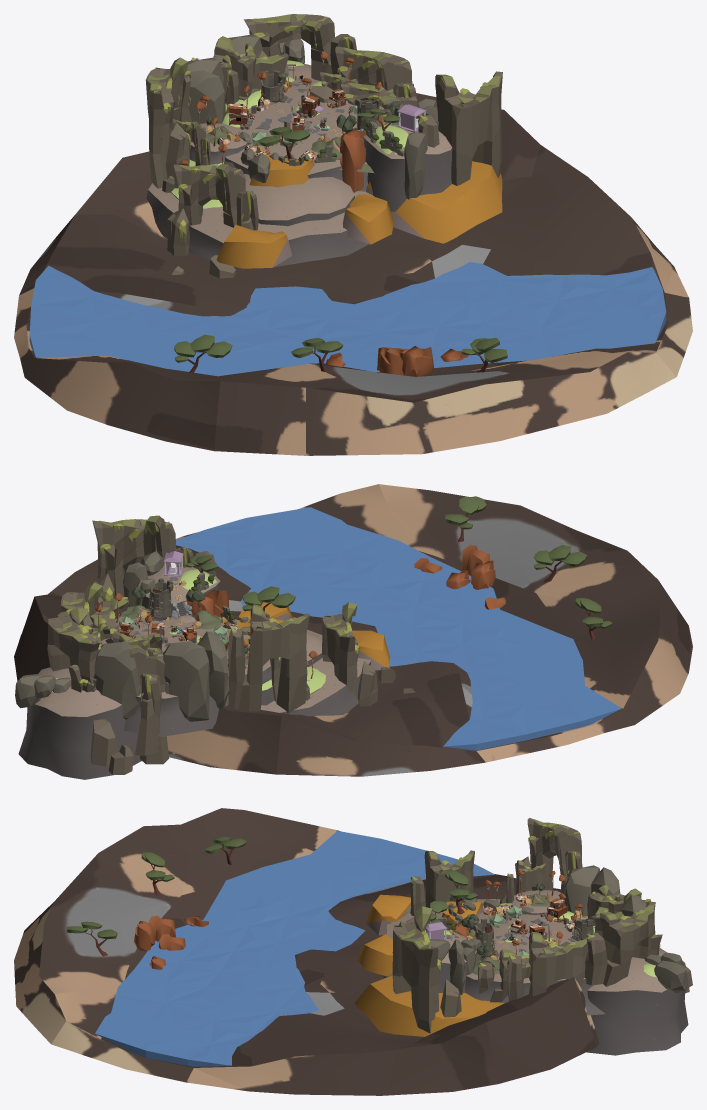
The model's file is Desert_ruins_MedievalRemixChallenge.glb.
The picture shows the model from 3 angles, top to bottom: view 1: azimuth 30°, elevation 25°; view 2: azimuth 150°, elevation 25°; view 3: azimuth 270°, elevation 25°; orthographic projection. The views are drawn at different scales.
Visible parts, largest first — view 1: ground_Icosphere_terrain_mat_0, water_Icosphere.010_water_mat_0, Rock.021_Cube.011_Objects_0, Rock.021_Cube.009_Objects_0, Slope.002_slope_mat_0, Rock.021_Cube.008_Objects_0, Rock.021_Cube.013_Objects_0, dirtcliff_Mesh1_Model.001_dirtroad_0, dirtcliff_Mesh1_Model.007_dirtroad_0, dirtcliff_Mesh1_Model.004_dirt_0, dirtcliff_Mesh1_Model.003_dirt_0, Rock.021_Cube.002_Objects_0 (+17 smaller); view 2: ground_Icosphere_terrain_mat_0, water_Icosphere.010_water_mat_0, Rock.021_Cube.008_Objects_0, dirtcliff_Mesh1_Model.002_dirt_0, Rock.021_Cube.011_Objects_0, Rock.021_Cube.010_Objects_0, Rock.021_Cube.009_Objects_0, mff_stone_0.006_medievalfantasyforest_unwrap_0, Rock.021_Cube.013_Objects_0, mff_stone_0.017_medievalfantasyforest_unwrap_0, dirtcliff_Mesh1_Model.002_dirtroad_0, dirtcliff_Mesh1_Model.001_dirt_0 (+20 smaller); view 3: ground_Icosphere_terrain_mat_0, water_Icosphere.010_water_mat_0, dirtcliff_Mesh1_Model.002_dirt_0, Rock.021_Cube.011_Objects_0, Rock.021_Cube.013_Objects_0, Slope.002_slope_mat_0, Rock.021_Cube.002_Objects_0, Rock.021_Cube.008_Objects_0, Rock.021_Cube.009_Objects_0, dirtcliff_Mesh1_Model.001_dirtroad_0, dirtcliff_Mesh1_Model.002_dirtroad_0, Slope.004_slope_mat_0 (+17 smaller).
Part boxes in pixels (left/top/right/bottom): ground_Icosphere_terrain_mat_0: left=14, top=85, right=692, bottom=455; water_Icosphere.010_water_mat_0: left=29, top=262, right=666, bottom=376; Rock.021_Cube.011_Objects_0: left=418, top=71, right=502, bottom=185; Rock.021_Cube.009_Objects_0: left=167, top=164, right=258, bottom=278; Slope.002_slope_mat_0: left=366, top=161, right=502, bottom=243; Rock.021_Cube.008_Objects_0: left=145, top=57, right=235, bottom=188; Rock.021_Cube.013_Objects_0: left=244, top=14, right=356, bottom=104; dirtcliff_Mesh1_Model.001_dirtroad_0: left=225, top=78, right=384, bottom=174; dirtcliff_Mesh1_Model.007_dirtroad_0: left=244, top=174, right=354, bottom=220; dirtcliff_Mesh1_Model.004_dirt_0: left=146, top=190, right=368, bottom=267; dirtcliff_Mesh1_Model.003_dirt_0: left=363, top=137, right=452, bottom=211; Rock.021_Cube.002_Objects_0: left=335, top=46, right=417, bottom=104; ground_Icosphere_terrain_mat_0: left=14, top=484, right=692, bottom=776; water_Icosphere.010_water_mat_0: left=176, top=507, right=621, bottom=750; Rock.021_Cube.008_Objects_0: left=228, top=604, right=309, bottom=713; dirtcliff_Mesh1_Model.002_dirt_0: left=18, top=704, right=141, bottom=779; Rock.021_Cube.011_Objects_0: left=92, top=515, right=193, bottom=601; Rock.021_Cube.010_Objects_0: left=90, top=631, right=165, bottom=766; Rock.021_Cube.009_Objects_0: left=322, top=602, right=415, bottom=706; mff_stone_0.006_medievalfantasyforest_unwrap_0: left=162, top=641, right=209, bottom=721; Rock.021_Cube.013_Objects_0: left=47, top=608, right=113, bottom=691; mff_stone_0.017_medievalfantasyforest_unwrap_0: left=93, top=642, right=140, bottom=719; dirtcliff_Mesh1_Model.002_dirtroad_0: left=35, top=667, right=121, bottom=716; dirtcliff_Mesh1_Model.001_dirt_0: left=124, top=694, right=228, bottom=736; ground_Icosphere_terrain_mat_0: left=14, top=808, right=599, bottom=1095; water_Icosphere.010_water_mat_0: left=95, top=831, right=494, bottom=1066; dirtcliff_Mesh1_Model.002_dirt_0: left=586, top=970, right=688, bottom=1055; Rock.021_Cube.011_Objects_0: left=392, top=906, right=461, bottom=1033; Rock.021_Cube.013_Objects_0: left=559, top=901, right=655, bottom=986; Slope.002_slope_mat_0: left=355, top=975, right=504, bottom=1036; Rock.021_Cube.002_Objects_0: left=507, top=931, right=588, bottom=1001; Rock.021_Cube.008_Objects_0: left=503, top=818, right=582, bottom=905; Rock.021_Cube.009_Objects_0: left=410, top=850, right=474, bottom=915; dirtcliff_Mesh1_Model.001_dirtroad_0: left=467, top=905, right=587, bottom=983; dirtcliff_Mesh1_Model.002_dirtroad_0: left=588, top=948, right=686, bottom=992; Slope.004_slope_mat_0: left=366, top=894, right=411, bottom=935.
Bounding box in the file's own units: 58764 × 15471 × 64992.
Materials: 39 (36 with a texture image).
